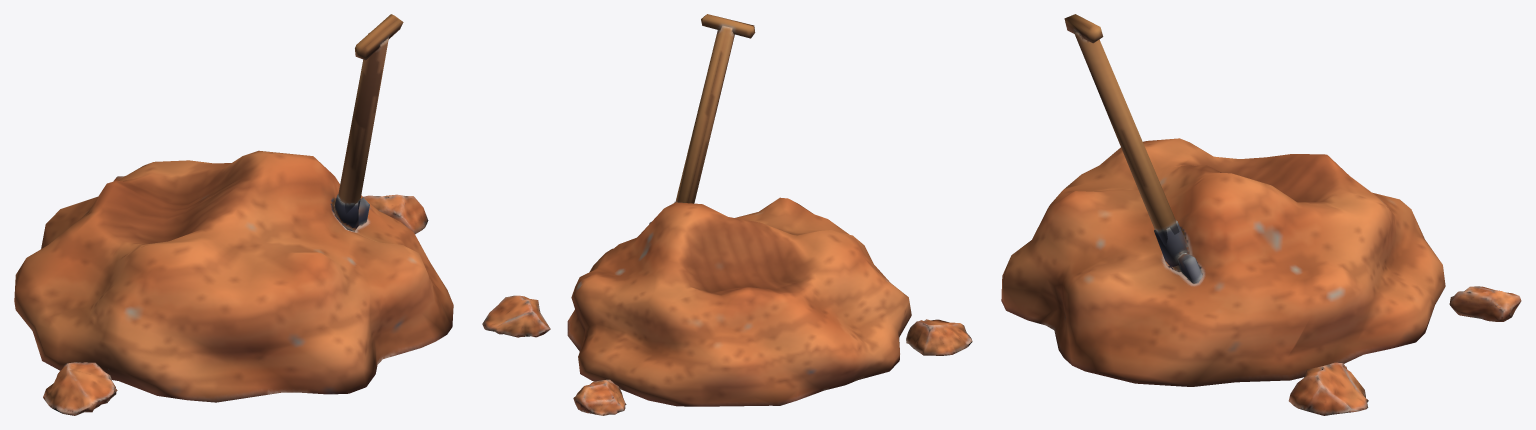
File: clay_pit.glb
3 views of the same model, side by side, from view 1: azimuth 30°, elevation 25°; view 2: azimuth 150°, elevation 25°; view 3: azimuth 270°, elevation 25° (orthographic). The views are drawn at different scales.
Visible parts, largest first — view 1: clay_pit; view 2: clay_pit; view 3: clay_pit.
Part boxes in pixels (x1,y1,x2,y2): clay_pit: (14, 14, 453, 415); clay_pit: (482, 14, 972, 415); clay_pit: (1001, 14, 1521, 415).
Bounding box in the file's own units: 1.65 × 1.07 × 1.56.
Materials: 1 (1 with a texture image).
